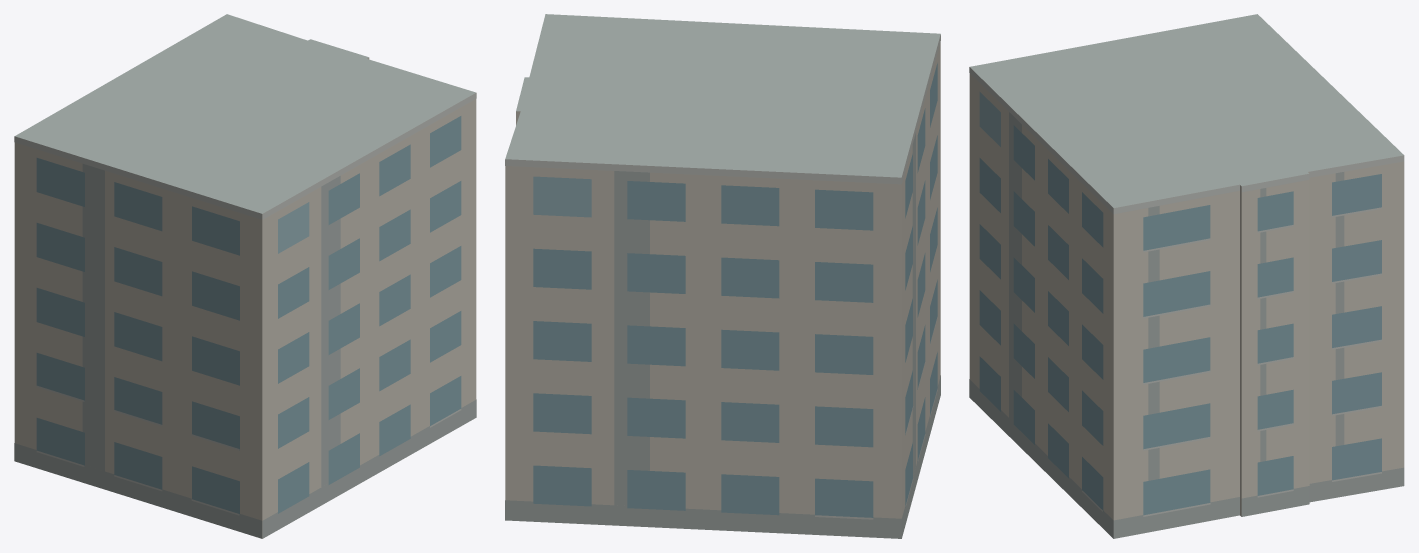
Rendered from survey-upis-33024072.glb.
3 views of the same model, side by side, from view 1: azimuth 30°, elevation 25°; view 2: azimuth 150°, elevation 25°; view 3: azimuth 270°, elevation 25° (orthographic). The views are drawn at different scales.
Visible parts, largest first — view 1: survey-upis-33024072.tmp; view 2: survey-upis-33024072.tmp; view 3: survey-upis-33024072.tmp.
Part boxes in pixels (x1,y1,x2,y2): survey-upis-33024072.tmp: (14,14,476,538); survey-upis-33024072.tmp: (505,14,940,538); survey-upis-33024072.tmp: (969,14,1404,538).
Size of the model in its own units: 16.64 by 13.2 by 15.74.
